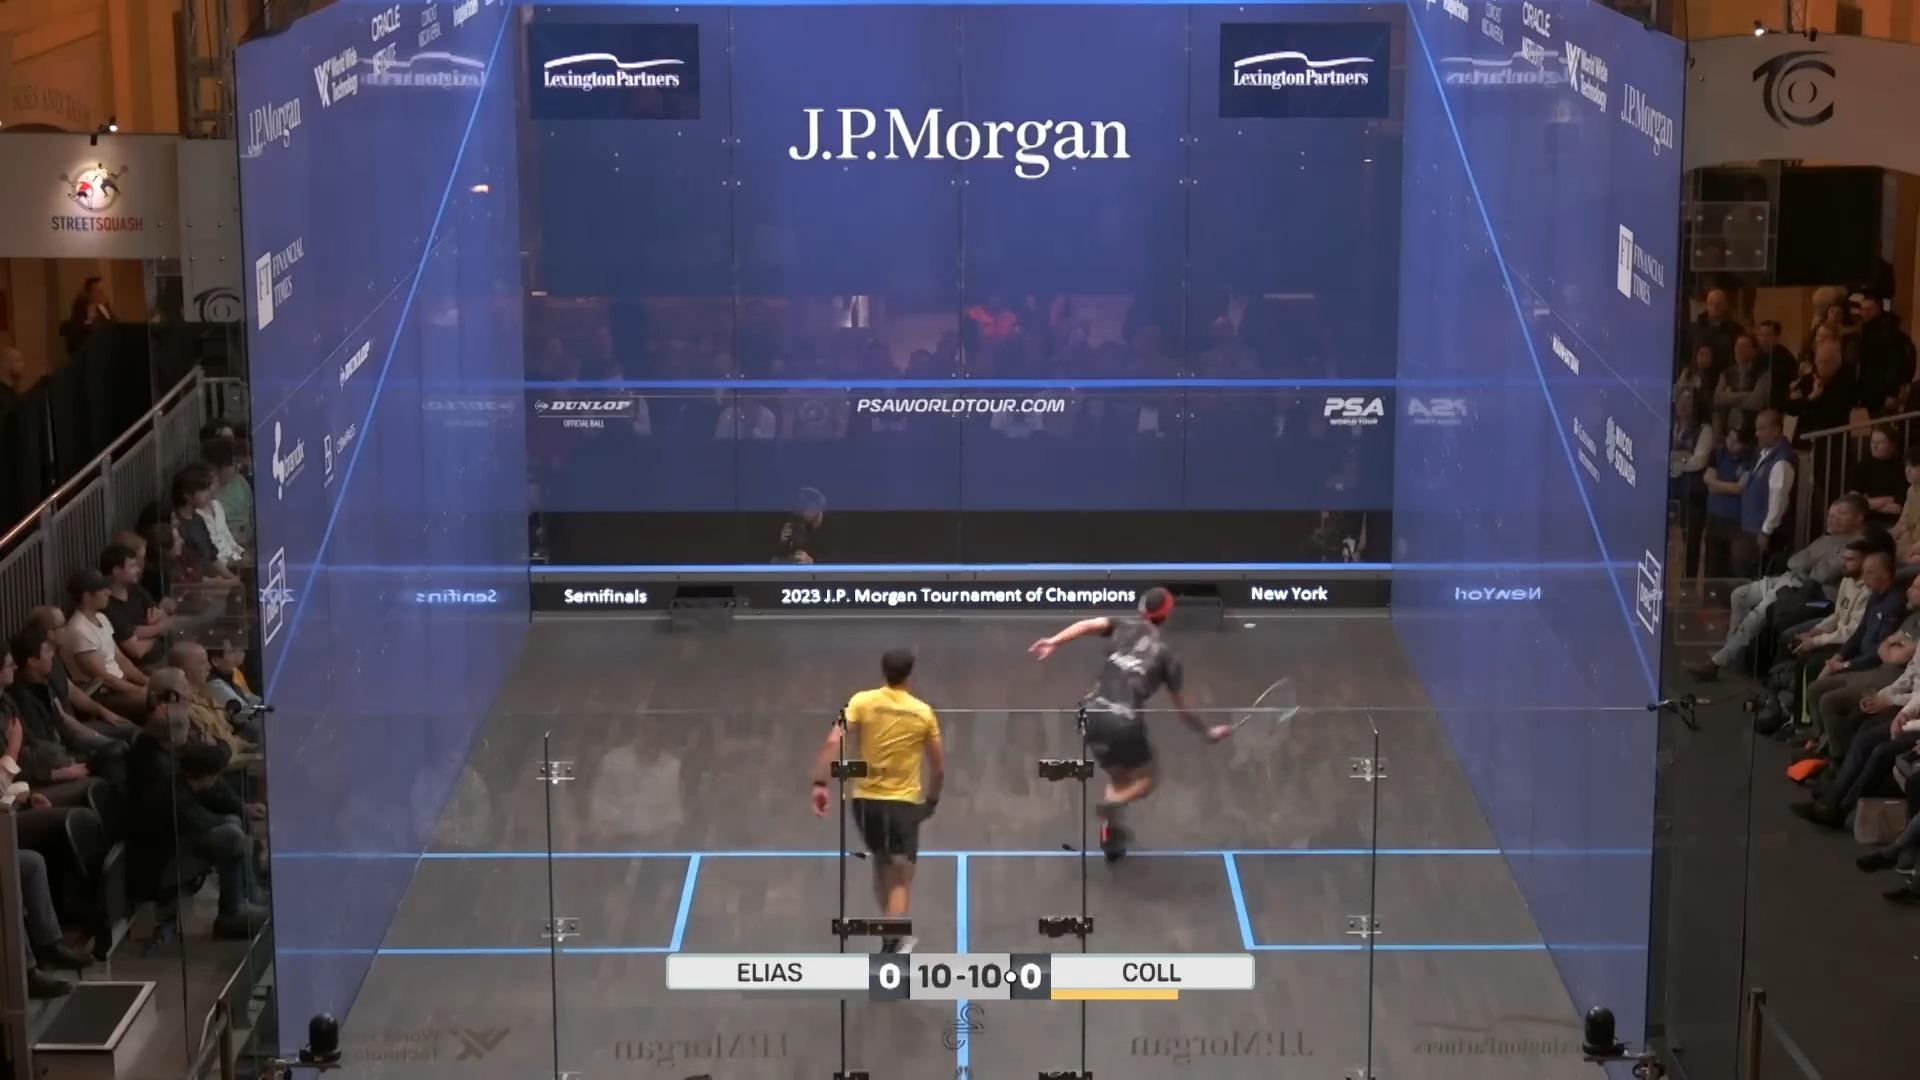Racket: (1212, 671, 1312, 750)
